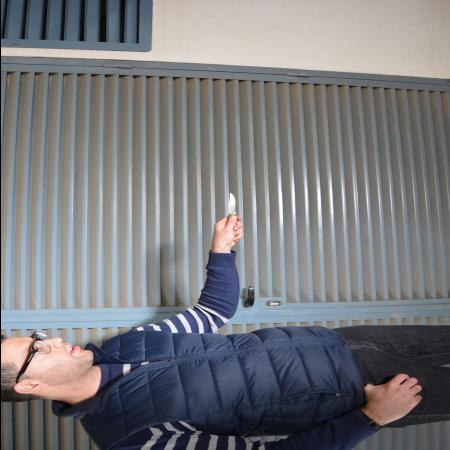long weapon: (225, 192, 244, 246)
